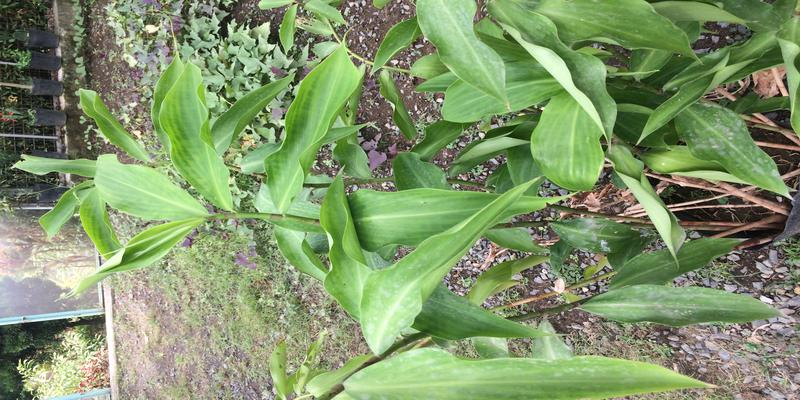Insulin: (261, 8, 788, 327)
